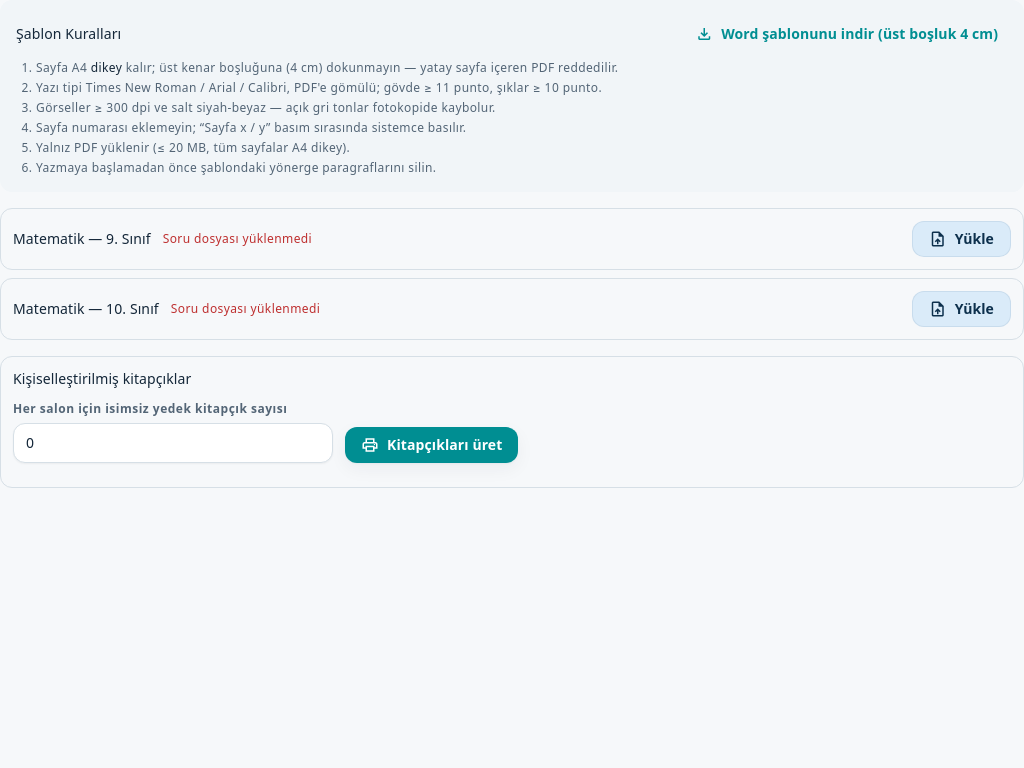
SorularPaneli › üretim FAILED dönerse hata snackbar'ı koşunun mesajını taşır
What coordinates should you click on to do the following:
click the button "Kitapçıkları üret"
I would click on:
 (432, 445)
Its box is top-left (345, 427), bottom-right (518, 463).
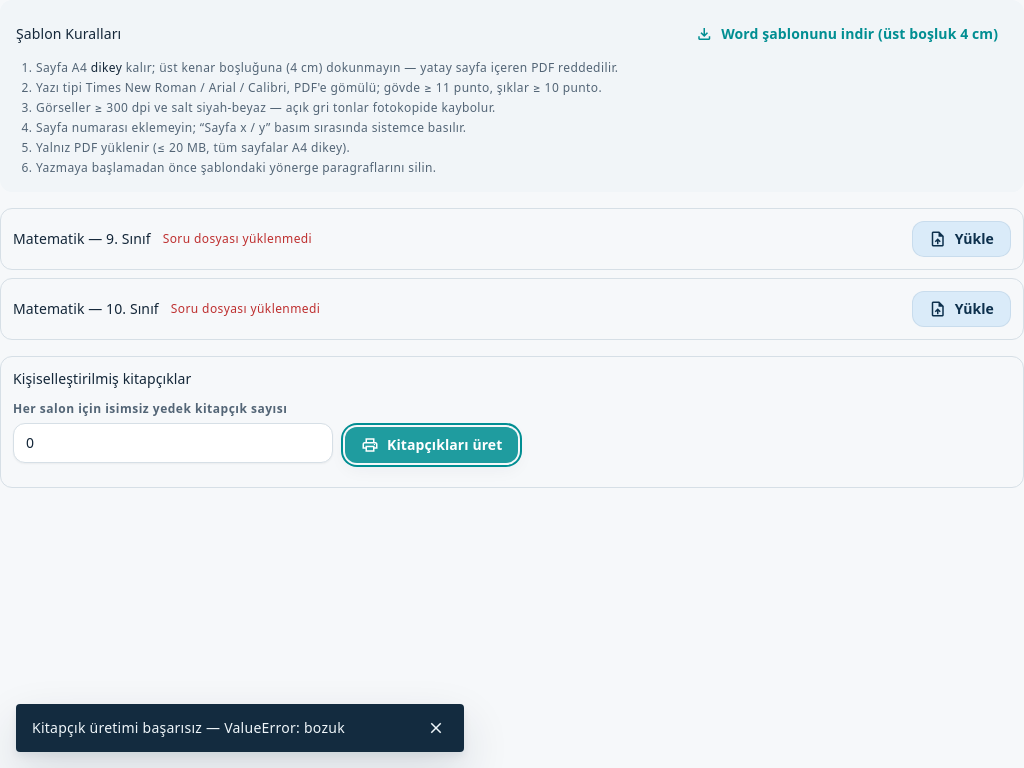
Now the text "Kitapçık üretimi başarısız — ValueError: bozuk" is shown, box top-left (32, 718), bottom-right (345, 737)
